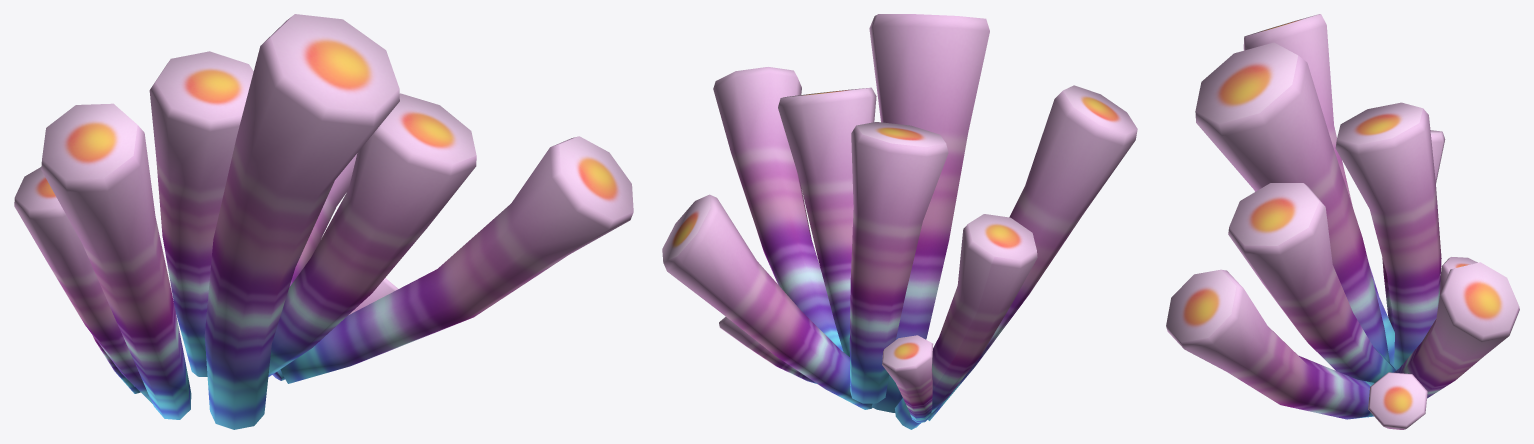
The model's file is Avatar_plant_06.fbx.
3 views of the same model, side by side, from view 1: azimuth 30°, elevation 25°; view 2: azimuth 150°, elevation 25°; view 3: azimuth 270°, elevation 25° (orthographic). The views are drawn at different scales.
Visible parts, largest first — view 1: Avatar_plant_06; view 2: Avatar_plant_06; view 3: Avatar_plant_06.
Part boxes in pixels (box(x1,y1,x2,y2)): Avatar_plant_06: box(14, 14, 633, 429); Avatar_plant_06: box(662, 14, 1137, 429); Avatar_plant_06: box(1166, 14, 1519, 429).
Size of the model in its own units: 90.13 by 69.74 by 61.54.
